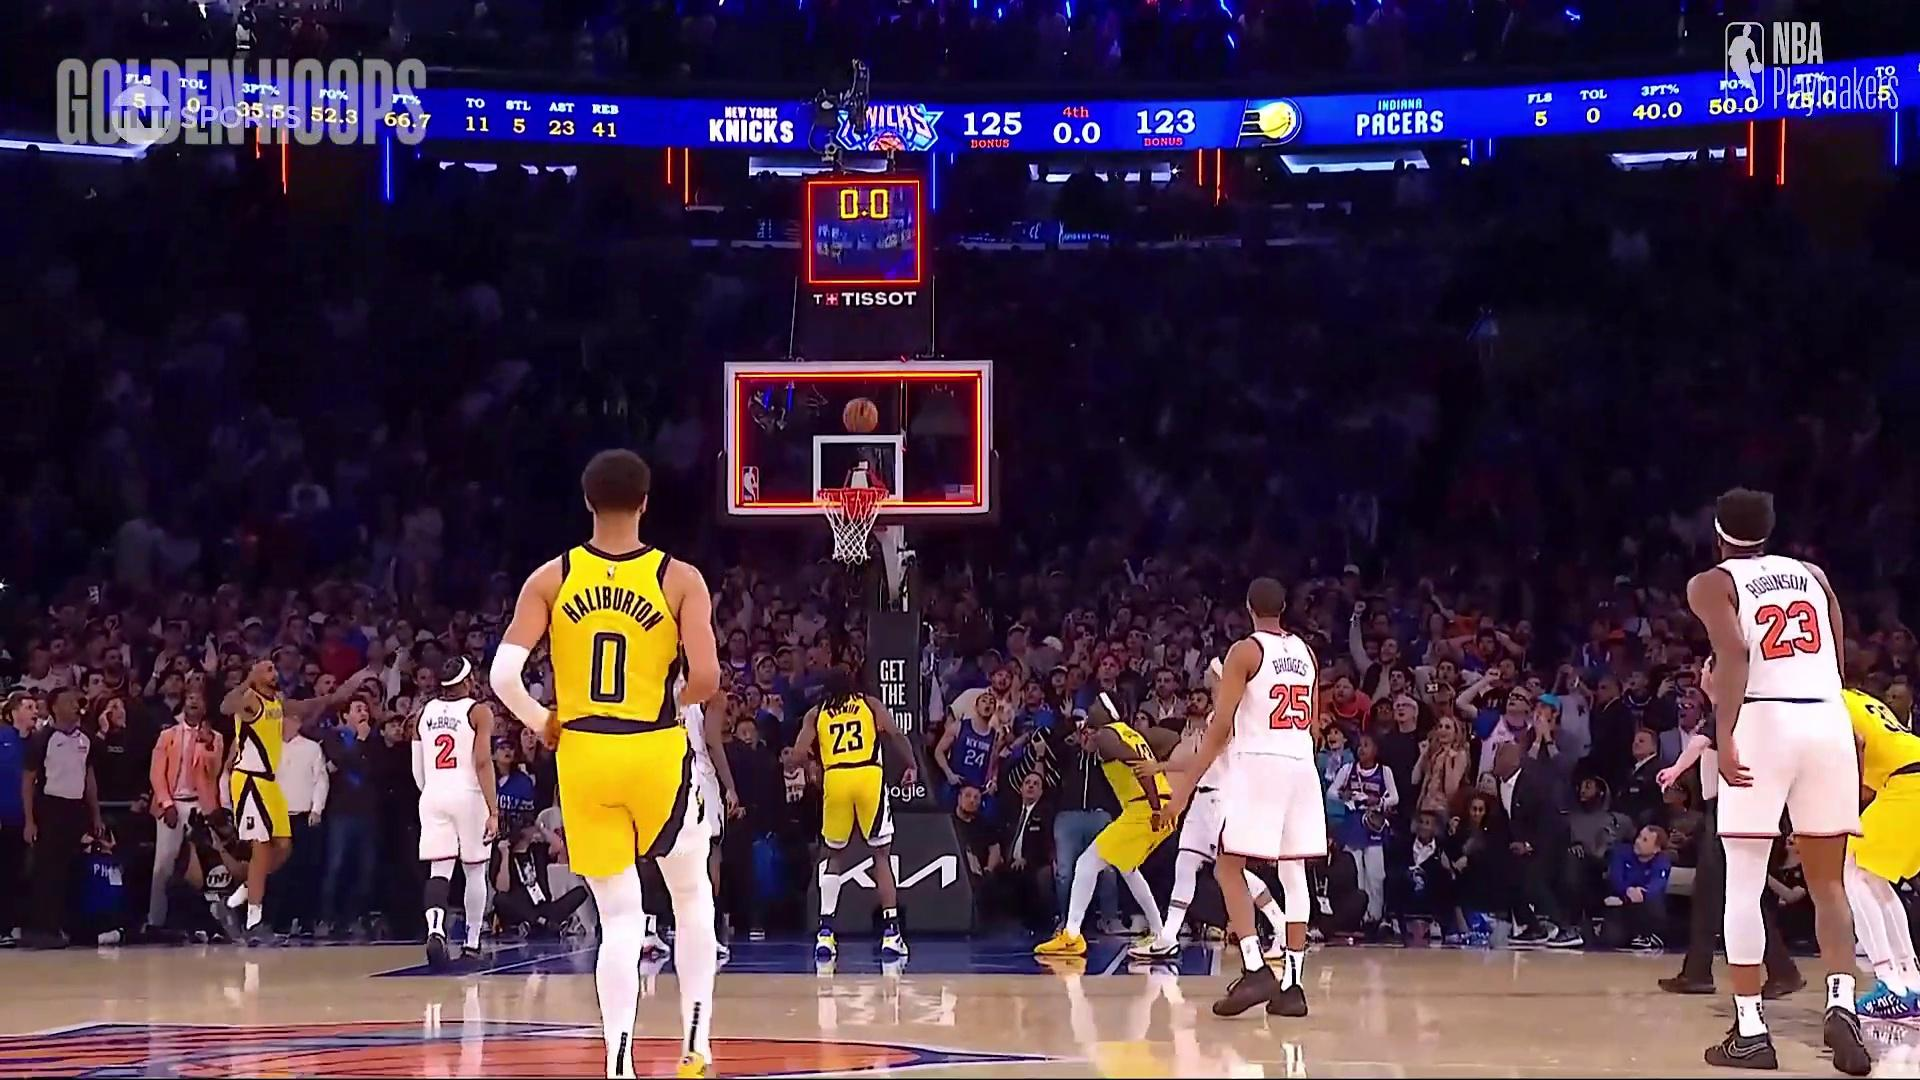ball: (840, 401, 882, 435)
hoop: (822, 484, 882, 558)
